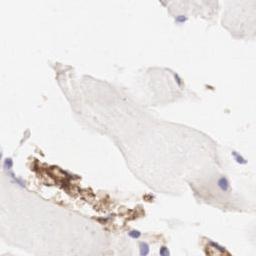nucleus: (232, 151, 248, 165), (208, 239, 225, 252), (138, 242, 150, 256), (217, 176, 228, 191), (4, 157, 13, 171), (173, 73, 182, 86), (175, 15, 188, 24), (129, 230, 140, 240), (15, 177, 26, 187), (159, 248, 171, 256)
positive_cell: (203, 236, 232, 254), (122, 226, 142, 238)
